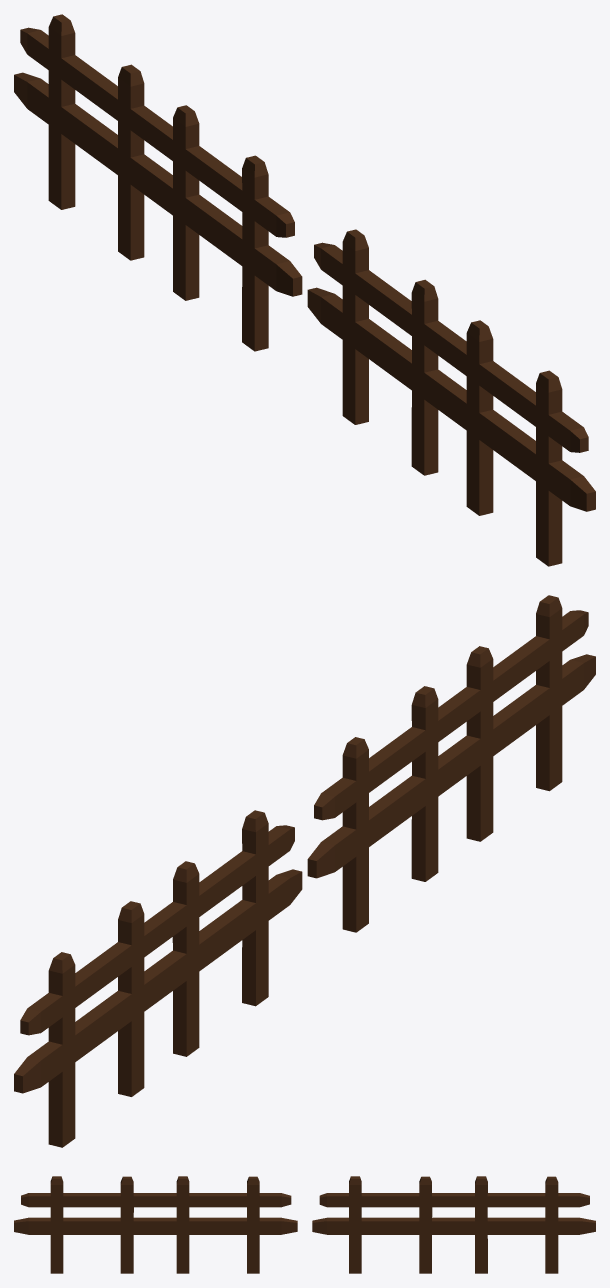
The model's file is barriere-2.fbx.
3 views of the same model, one above another, from view 1: azimuth 30°, elevation 25°; view 2: azimuth 150°, elevation 25°; view 3: azimuth 270°, elevation 25° (orthographic). The views are drawn at different scales.
Visible parts, largest first — view 1: Barrieres; view 2: Barrieres; view 3: Barrieres.
Boxes of the visible parts, x1,y1,x2,y2 form: Barrieres: [14, 14, 595, 566]; Barrieres: [14, 595, 595, 1147]; Barrieres: [14, 1176, 595, 1273].
Size of the model in its own units: 14.43 by 186 by 1040.
